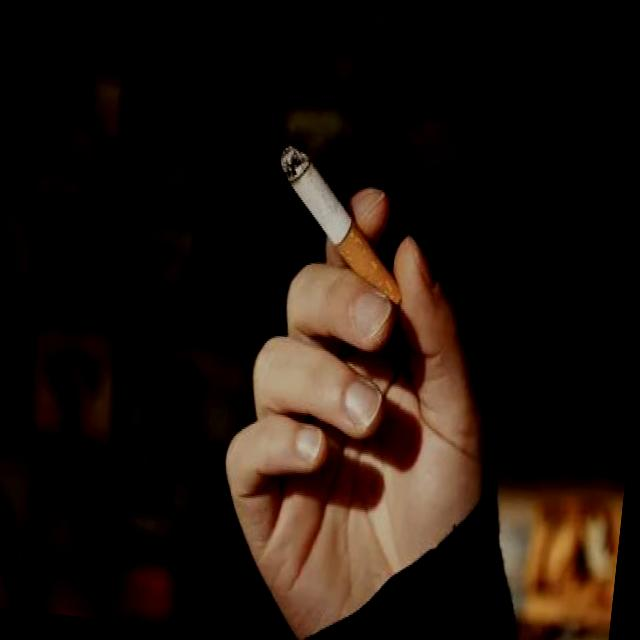smoke: (261, 138, 418, 316)
